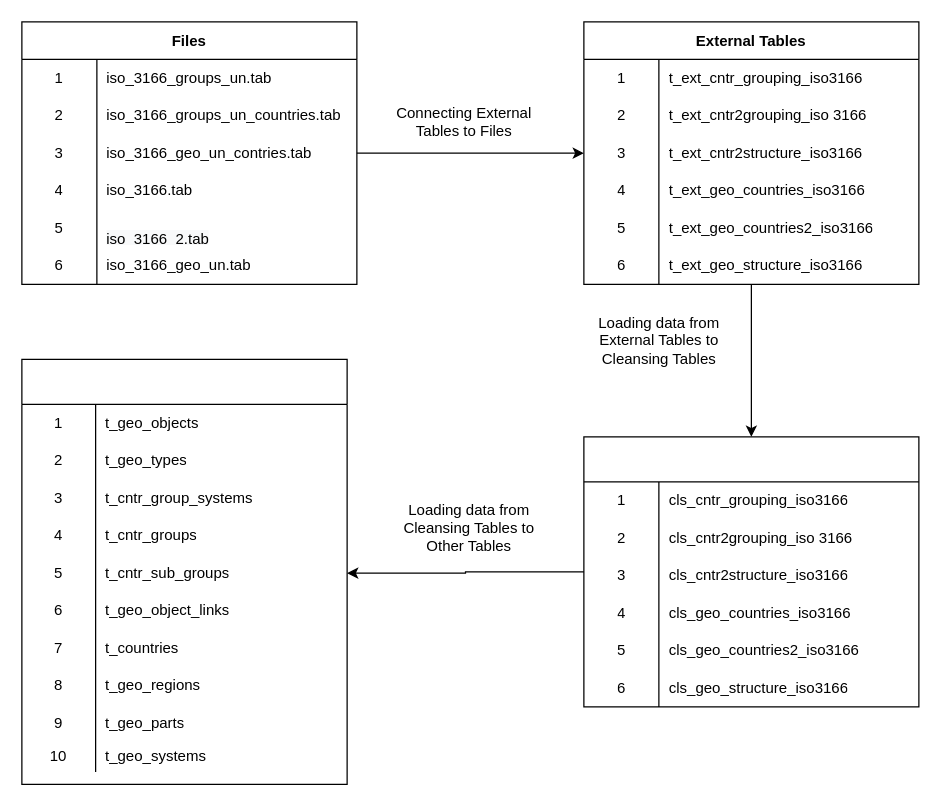
Some shapes in this 941 by 806 pixel diagram are drawn without their labels. Each missing label, with the box of its shape:
Cleansing Tables: (583, 436, 919, 707)
Other Tables: (21, 358, 347, 784)
